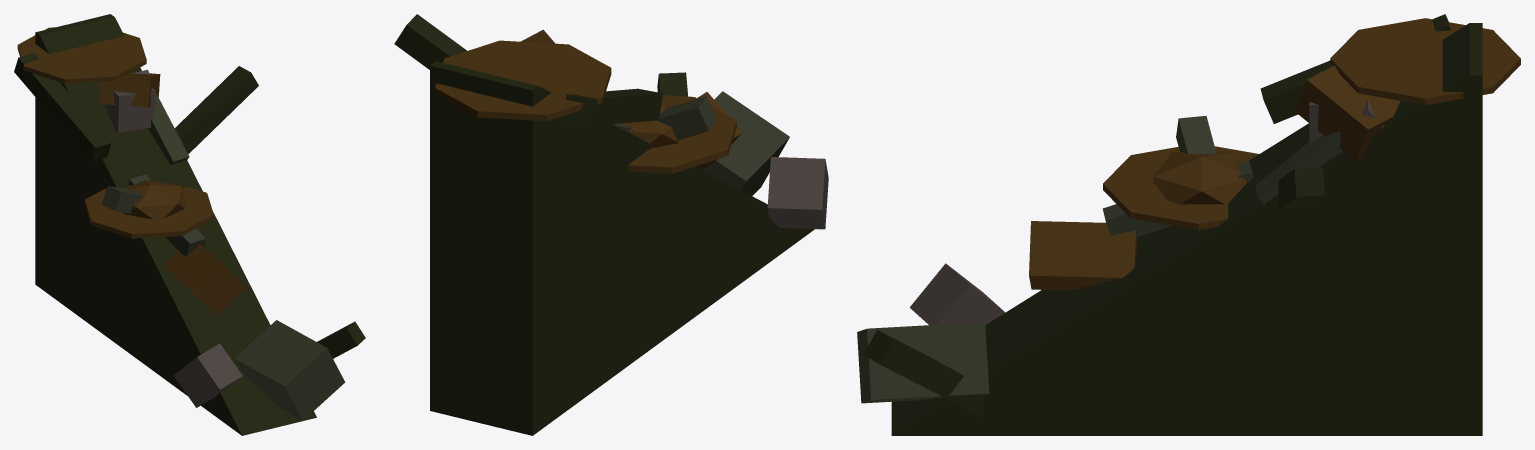
Rendered from SM_PilaZombi_Altura3_s2_LOD1.fbx.
3 renders of one model, left to right at view 1: azimuth 30°, elevation 25°; view 2: azimuth 150°, elevation 25°; view 3: azimuth 270°, elevation 25°, orthographic. The views are drawn at different scales.
Visible parts, largest first — view 1: SM_pila_zombis_v12_LOD1; view 2: SM_pila_zombis_v12_LOD1; view 3: SM_pila_zombis_v12_LOD1.
Boxes of the visible parts, <box> form: SM_pila_zombis_v12_LOD1: <box>14,14,365,435</box>; SM_pila_zombis_v12_LOD1: <box>394,14,828,435</box>; SM_pila_zombis_v12_LOD1: <box>857,14,1520,435</box>.
Size of the model in its own units: 1.4 by 1.71 by 2.79.
